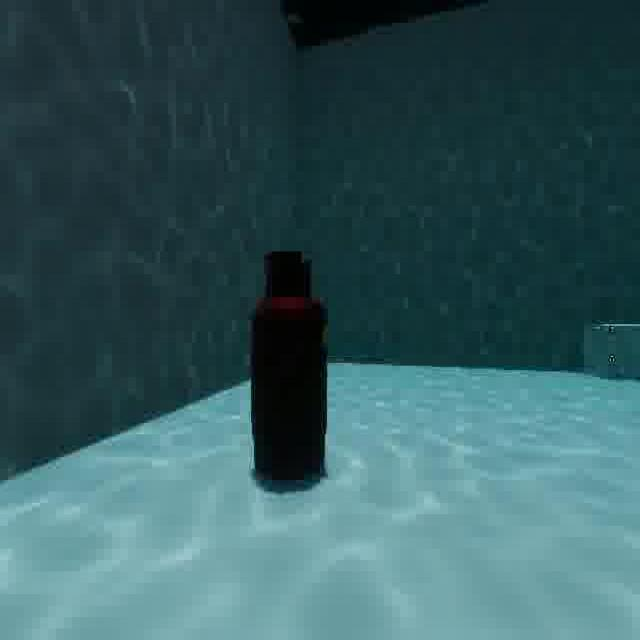Cylinder: (242, 226, 334, 513)
Docking Station: (578, 309, 640, 387)
